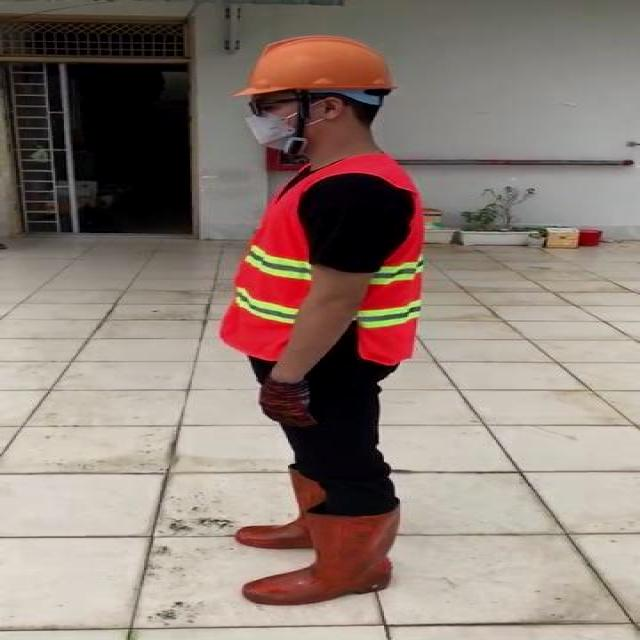boots: (244, 501, 402, 605), (233, 469, 329, 551)
face_mask: (234, 90, 312, 154)
hand_glove: (258, 378, 318, 427)
head_helmet: (247, 35, 397, 98)
person: (183, 27, 437, 621)
vest: (219, 158, 423, 364)
